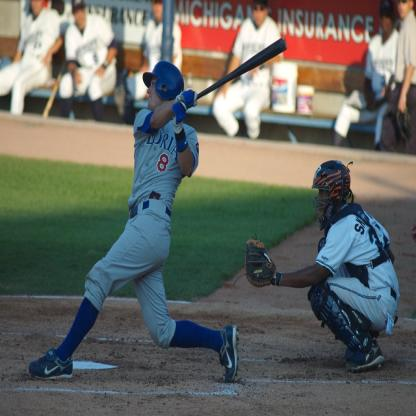Helmet: (312, 162, 354, 225), (138, 57, 186, 106)
